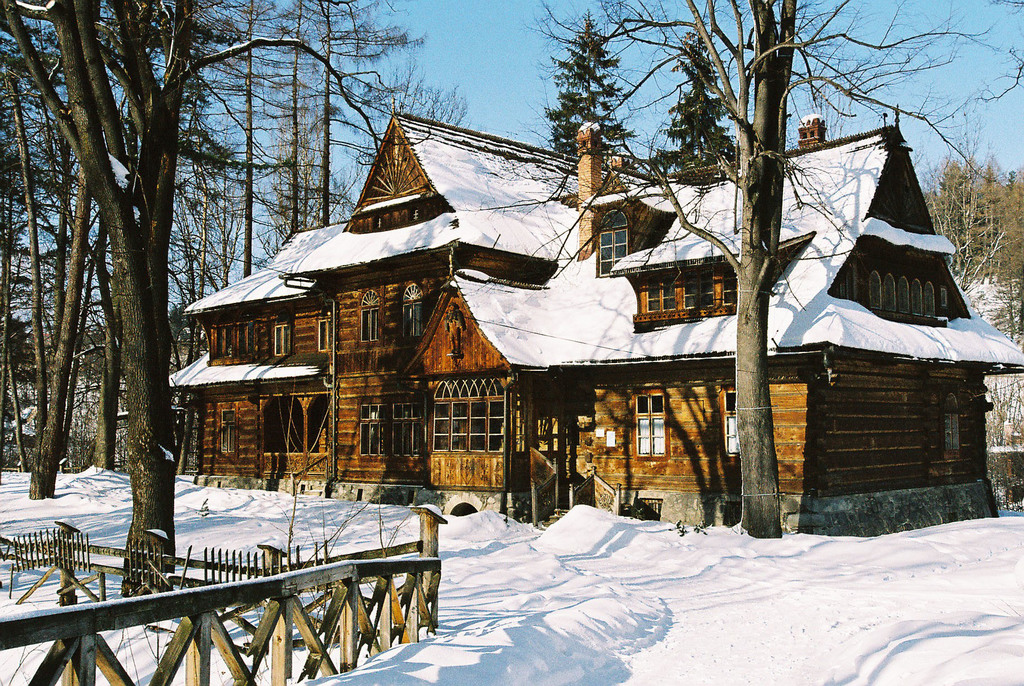Tree: (477, 0, 1024, 537), (0, 0, 432, 595), (0, 0, 468, 497), (542, 12, 637, 155), (927, 157, 1024, 286), (657, 29, 735, 170)
